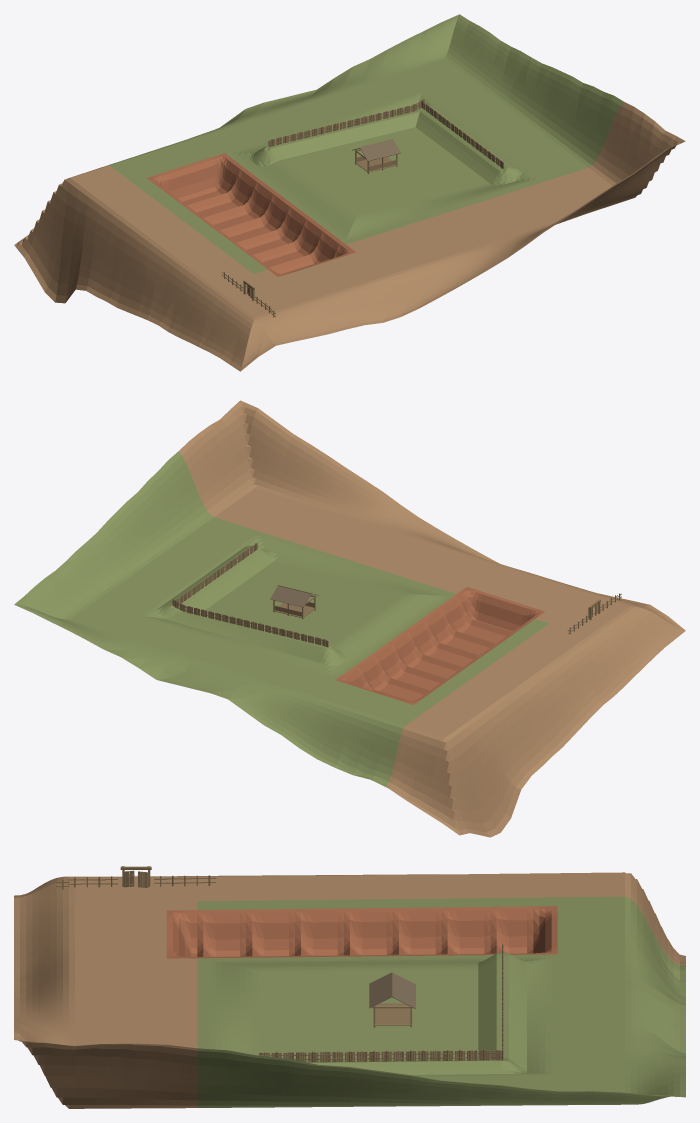
The model's file is phase3b.glb.
3 renders of one model, top to bottom at view 1: azimuth 30°, elevation 25°; view 2: azimuth 150°, elevation 25°; view 3: azimuth 270°, elevation 25°, orthographic. The views are drawn at different scales.
Visible parts, largest first — view 1: wb-gate.surface.path, wb-bailey.surface.grass, wb-moat.surface.earth, wb-building.roof.-1; view 2: wb-bailey.surface.grass, wb-gate.surface.path, wb-moat.surface.earth; view 3: wb-bailey.surface.grass, wb-gate.surface.path, wb-moat.surface.earth, wb-building.floor, wb-building.roof.-1, wb-building.roof.1.
Boxes of the visible parts, box(x1,y1,x2,y2) form: wb-gate.surface.path: box(14, 102, 685, 371); wb-bailey.surface.grass: box(108, 14, 623, 273); wb-moat.surface.earth: box(147, 153, 355, 276); wb-building.roof.-1: box(360, 139, 400, 161); wb-bailey.surface.grass: box(14, 451, 548, 786); wb-gate.surface.path: box(179, 400, 685, 837); wb-moat.surface.earth: box(335, 587, 544, 704); wb-bailey.surface.grass: box(197, 896, 685, 1107); wb-gate.surface.path: box(14, 872, 685, 1108); wb-moat.surface.earth: box(166, 906, 557, 958); wb-building.floor: box(373, 1003, 412, 1025); wb-building.roof.-1: box(369, 972, 392, 1008); wb-building.roof.1: box(392, 973, 415, 1008).
Size of the model in its own units: 125 by 50.44 by 110.
